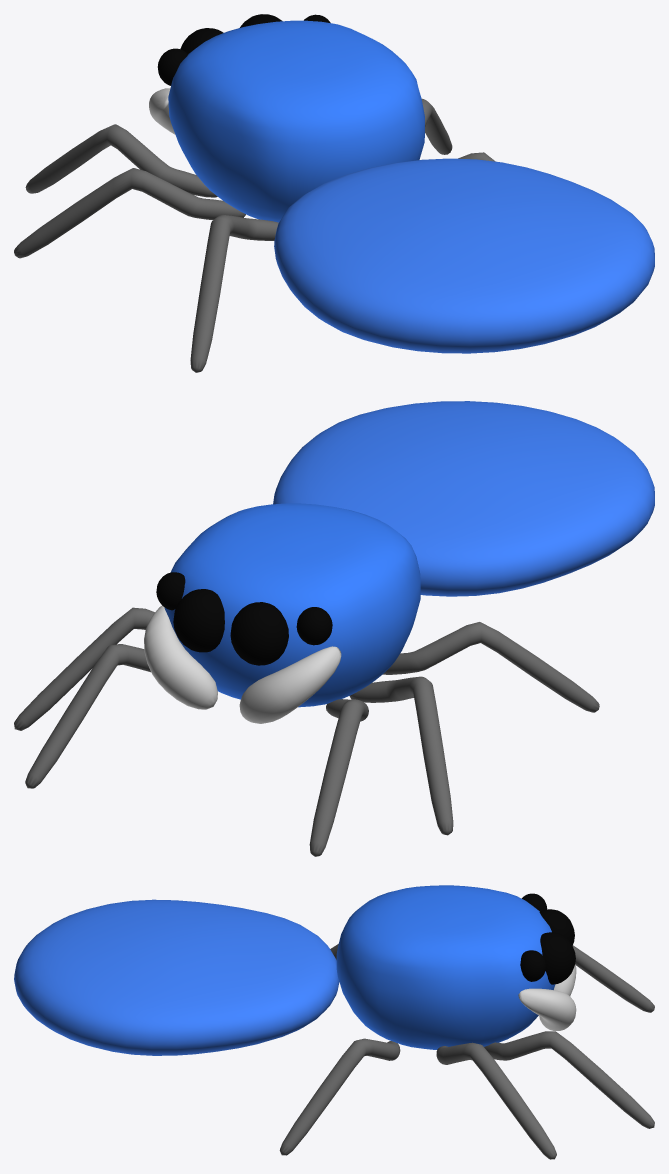
Rendered from Spider21.glb.
The picture shows the model from 3 angles, top to bottom: view 1: azimuth 30°, elevation 25°; view 2: azimuth 150°, elevation 25°; view 3: azimuth 270°, elevation 25°; orthographic projection. The views are drawn at different scales.
Visible parts, largest first — view 1: Butt, Head, Leg.003, Leg.005, Leg.001, Leg.002, Pincer.001, Eye.002, Eye; view 2: Butt, Head, Leg.005, Leg.003, Pincer.001, Pincer, Leg, Leg.001, Leg.002, Eye, Eye.001, Eye.002 (+1 smaller); view 3: Butt, Head, Leg, Leg.004, Leg.002, Pincer, Leg.001, Eye.001, Eye.003, Eye.
Boxes of the visible parts, x1=… form: Butt: x1=274, y1=158, x2=654, y2=353; Head: x1=168, y1=20, x2=424, y2=222; Leg.003: x1=14, y1=168, x2=245, y2=258; Leg.005: x1=190, y1=215, x2=278, y2=372; Leg.001: x1=25, y1=124, x2=217, y2=197; Leg.002: x1=422, y1=98, x2=452, y2=154; Pincer.001: x1=149, y1=88, x2=175, y2=134; Eye.002: x1=157, y1=48, x2=188, y2=85; Eye: x1=180, y1=28, x2=223, y2=53; Butt: x1=273, y1=401, x2=654, y2=596; Head: x1=164, y1=503, x2=420, y2=707; Leg.005: x1=383, y1=622, x2=599, y2=712; Leg.003: x1=349, y1=676, x2=453, y2=835; Pincer.001: x1=239, y1=646, x2=341, y2=723; Pincer: x1=144, y1=605, x2=217, y2=709; Leg: x1=25, y1=644, x2=150, y2=788; Leg.001: x1=309, y1=699, x2=368, y2=856; Leg.002: x1=14, y1=607, x2=154, y2=730; Eye: x1=230, y1=602, x2=288, y2=665; Eye.001: x1=173, y1=589, x2=224, y2=652; Eye.002: x1=296, y1=607, x2=332, y2=645; Butt: x1=14, y1=899, x2=339, y2=1055; Head: x1=336, y1=885, x2=555, y2=1049; Leg: x1=484, y1=1031, x2=654, y2=1128; Leg.004: x1=279, y1=1038, x2=400, y2=1155; Leg.002: x1=436, y1=1042, x2=556, y2=1159; Pincer: x1=518, y1=988, x2=576, y2=1030; Leg.001: x1=572, y1=945, x2=654, y2=1012; Eye.001: x1=540, y1=932, x2=575, y2=984; Eye.003: x1=520, y1=950, x2=546, y2=981; Eye: x1=539, y1=909, x2=574, y2=945.
Size of the model in its own units: 0.3311 by 0.1445 by 0.5081.
